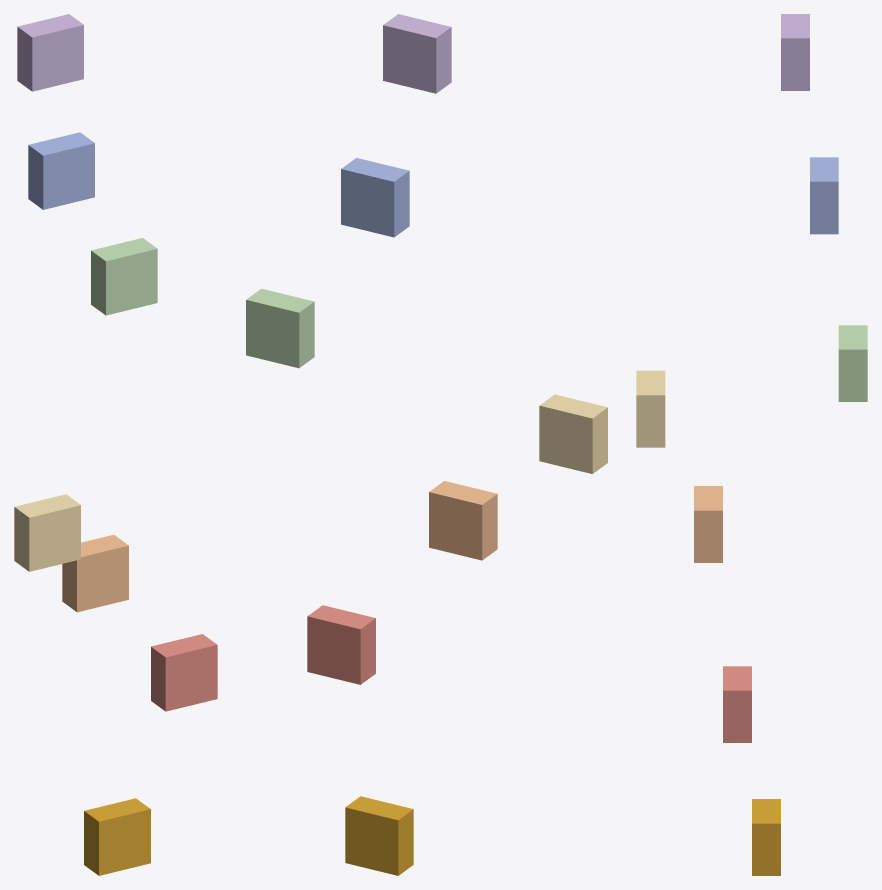
File: tinker.obj
3 renders of one model, left to right at view 1: azimuth 30°, elevation 25°; view 2: azimuth 150°, elevation 25°; view 3: azimuth 270°, elevation 25°, orthographic. The views are drawn at different scales.
Visible parts, largest first — view 1: group_0_14789941, group_0_16311991, group_0_11452141, group_0_13877222, group_0_13165757, group_0_15308428, group_0_16500122; view 2: group_0_16500122, group_0_13165757, group_0_15308428, group_0_16311991, group_0_11452141, group_0_13877222, group_0_14789941; view 3: group_0_16311991, group_0_13165757, group_0_11452141, group_0_13877222, group_0_14789941, group_0_15308428, group_0_16500122.
Boxes of the visible parts, x1,y1,x2,y2 form: group_0_14789941: [84, 798, 150, 875]; group_0_16311991: [14, 494, 80, 571]; group_0_11452141: [28, 132, 94, 209]; group_0_13877222: [17, 14, 83, 91]; group_0_13165757: [91, 238, 157, 315]; group_0_15308428: [151, 634, 217, 711]; group_0_16500122: [62, 534, 128, 612]; group_0_16500122: [429, 481, 497, 560]; group_0_13165757: [246, 288, 314, 368]; group_0_15308428: [307, 605, 375, 684]; group_0_16311991: [539, 394, 607, 473]; group_0_11452141: [341, 158, 409, 237]; group_0_13877222: [383, 14, 451, 93]; group_0_14789941: [345, 796, 413, 875]; group_0_16311991: [636, 370, 665, 447]; group_0_13165757: [838, 325, 867, 401]; group_0_11452141: [810, 157, 838, 234]; group_0_13877222: [781, 14, 809, 90]; group_0_14789941: [752, 799, 780, 875]; group_0_15308428: [723, 666, 751, 742]; group_0_16500122: [694, 486, 722, 562].
Size of the model in its own units: 9 by 31 by 8.
